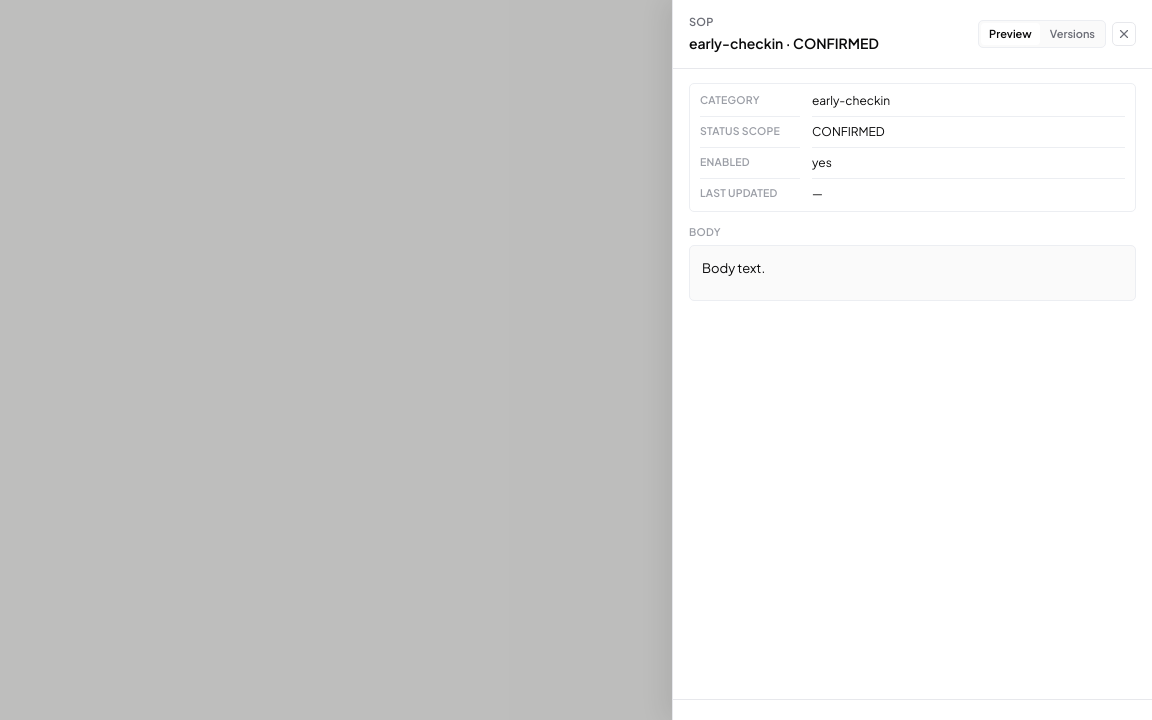
Test: ArtifactDrawer — Versions tab wiring (058-A F3/F6/F7) › tab switcher flips between Preview and Versions views
Expected: the text "Body text." is shown, [702, 260, 765, 276]
Click the tab with test id "artifact-drawer-tab-versions" at (1072, 34), box [1042, 22, 1103, 45]
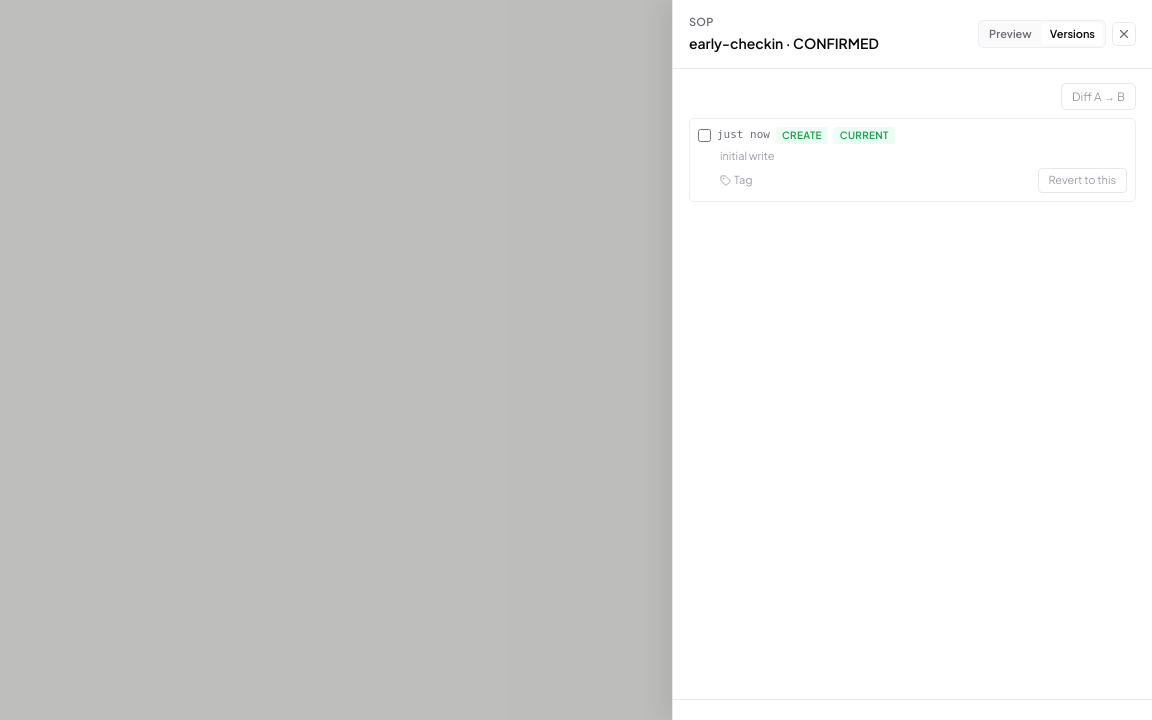
Now the element with test id "versions-tab" is shown, box [689, 82, 1136, 202]
Now the text "Body text." is gone
// Flip back.
Click the tab with test id "artifact-drawer-tab-preview" at (1010, 34), box [981, 22, 1040, 45]
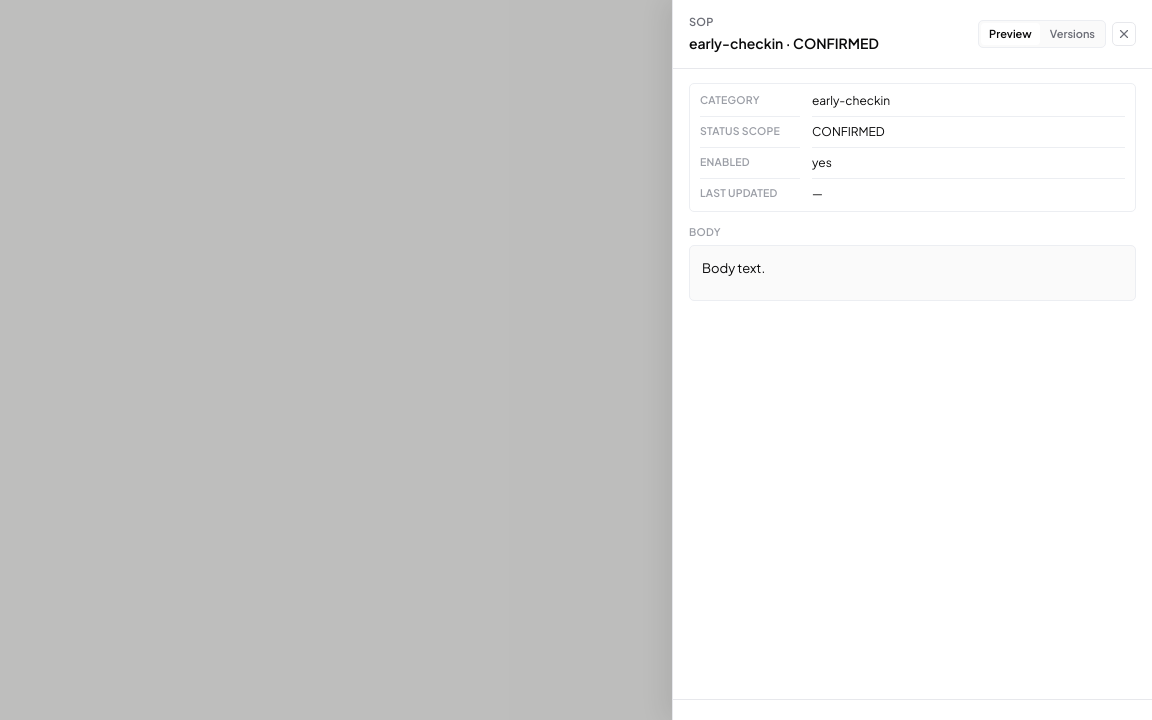
Now the text "Body text." is shown, box [702, 260, 765, 276]
Now the element with test id "versions-tab" is gone
